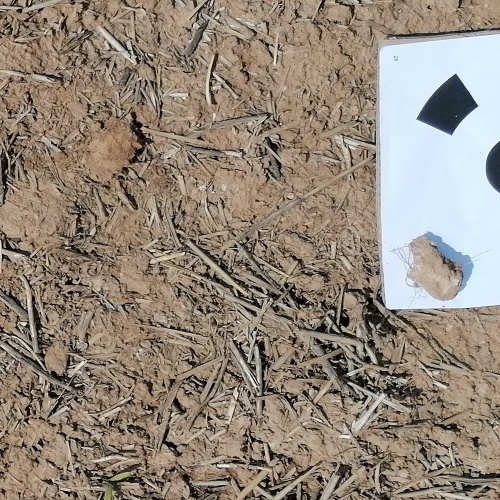beet: (101, 471, 130, 500)
